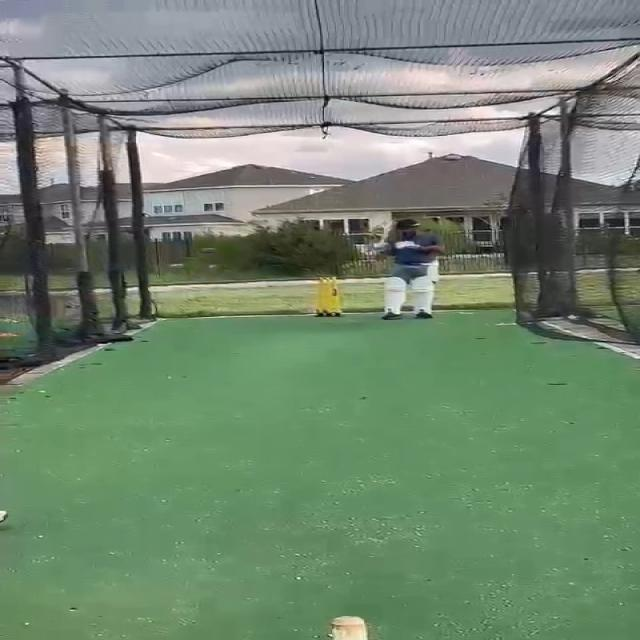batsman: (374, 218, 448, 321)
